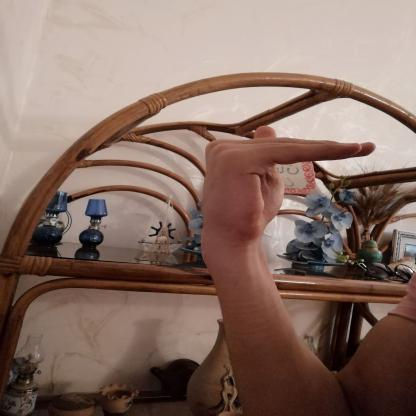KHAA: (187, 114, 383, 254)
